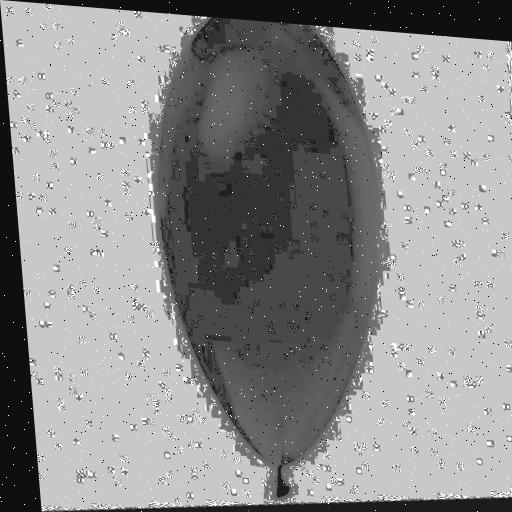balloon: (140, 12, 409, 512)
